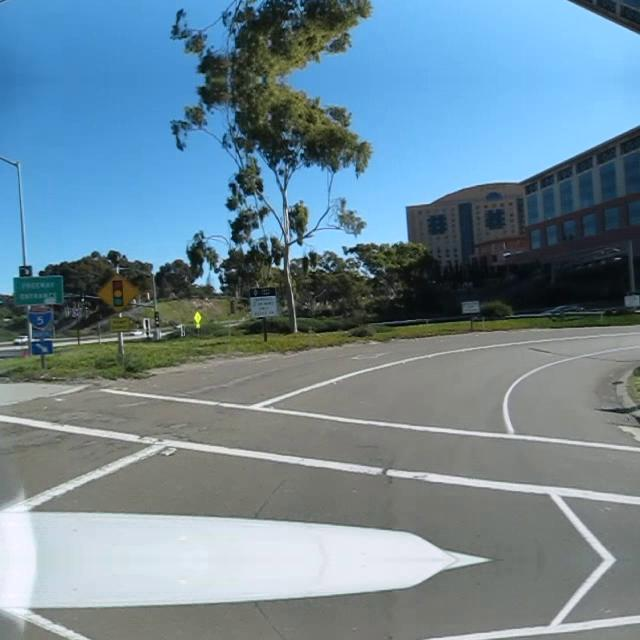signalAhead: (95, 271, 139, 315)
